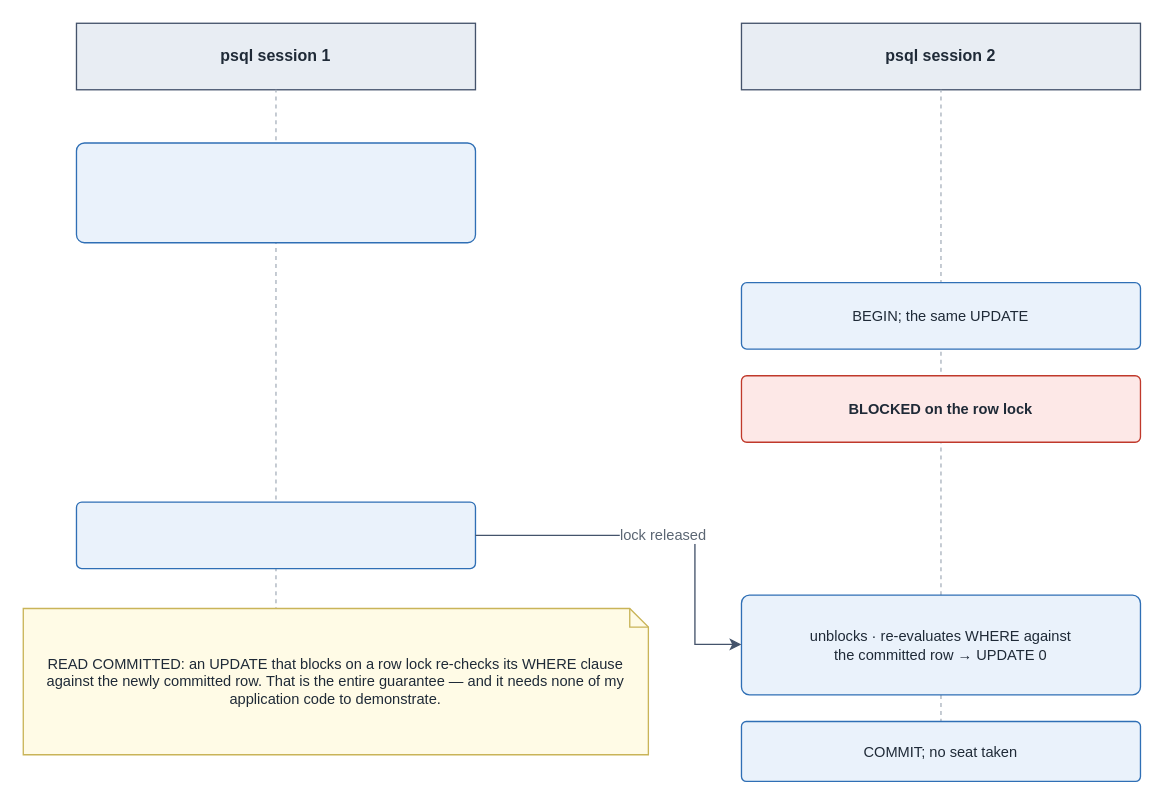
This 1164x805 diagram has some shape labels left out. Each missing label, with the box of its shape:
BEGIN; UPDATE ... WHERE seats_taken < capacity → UPDATE 1: (75, 142, 475, 243)
COMMIT;: (75, 501, 475, 569)
